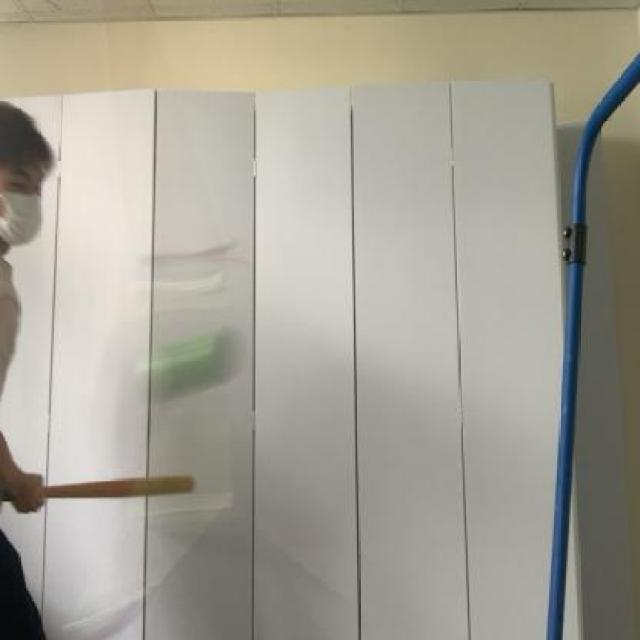baseball: (133, 320, 242, 402)
